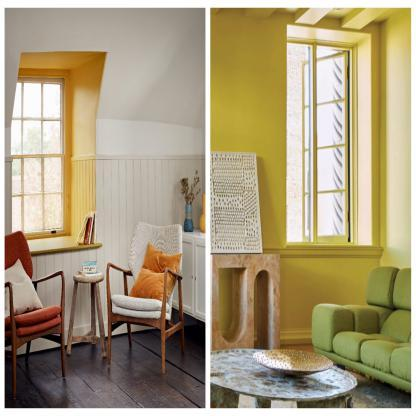chair: (107, 219, 193, 376), (2, 224, 70, 409)
sofa: (309, 264, 416, 400)
table: (209, 337, 354, 409), (211, 248, 288, 350), (70, 255, 109, 366)
